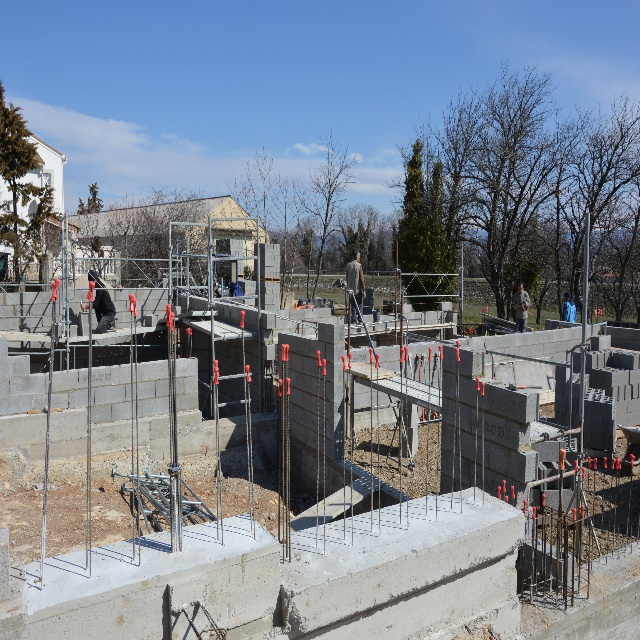Guantes: (518, 300, 522, 305)
Sin_guantes: (80, 303, 86, 311), (362, 291, 366, 299)
